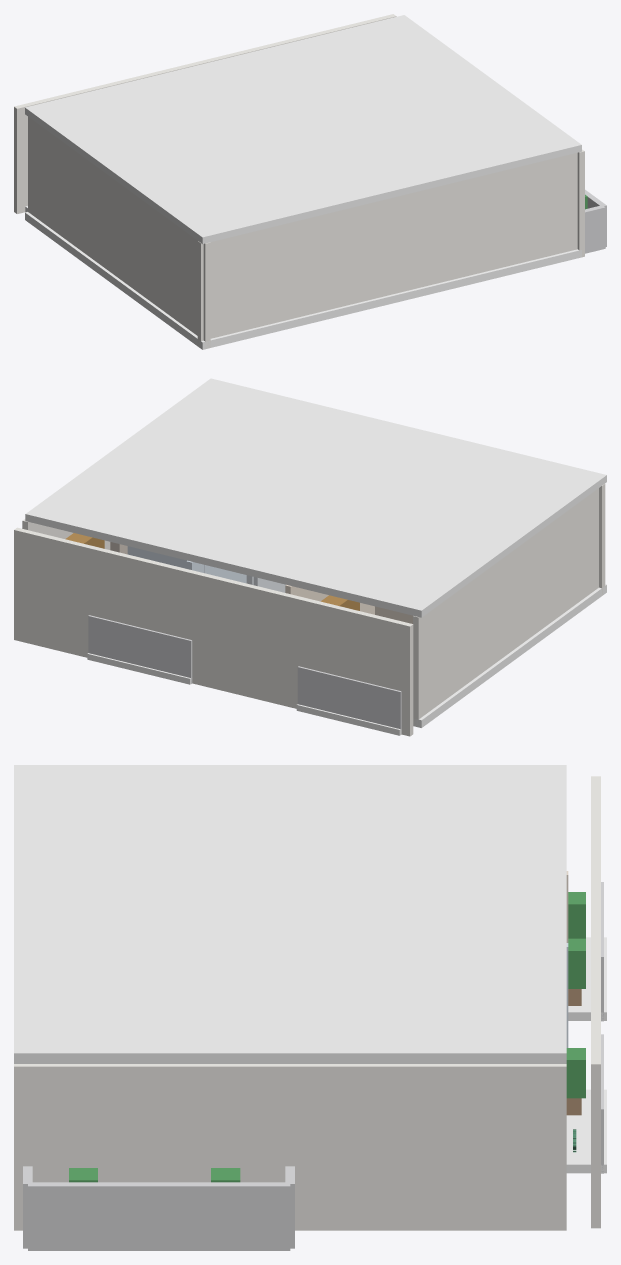
Rendered from house.glb.
3 renders of one model, top to bottom at view 1: azimuth 30°, elevation 25°; view 2: azimuth 150°, elevation 25°; view 3: azimuth 270°, elevation 25°, orthographic. The views are drawn at different scales.
Visible parts, largest first — view 1: Ceiling_Main, W_South, W_West, Floor_Main, W_North, Rail_R_S, W_East; view 2: Ceiling_Main, W_North, W_West, Rail_TR, Rail_TL, Floor_Main, Floor_Bal_TL, Floor_Bal_TR, W_South, W_BD_S, W_East; view 3: Ceiling_Main, W_East, Rail_R_E, W_North, Floor_Bal_TR, Floor_Bal_TL, Bal_Plant_2, Bal_Plant_1, Bal_Plant_0.
Part boxes in pixels (x1,y1,x2,y2): Ceiling_Main: [25, 15, 581, 243]; W_South: [197, 152, 577, 346]; W_West: [28, 116, 210, 349]; Floor_Main: [25, 212, 581, 349]; W_North: [14, 14, 396, 213]; Rail_R_S: [585, 205, 605, 253]; W_East: [577, 149, 584, 257]; Ceiling_Main: [25, 378, 606, 617]; W_North: [14, 527, 413, 736]; W_West: [413, 488, 598, 726]; Rail_TR: [88, 615, 192, 683]; Rail_TL: [297, 666, 401, 728]; Floor_Main: [413, 584, 606, 727]; Floor_Bal_TL: [296, 704, 401, 735]; Floor_Bal_TR: [87, 653, 192, 684]; W_South: [599, 484, 605, 595]; W_BD_S: [127, 546, 186, 568]; W_East: [22, 519, 110, 549]; Ceiling_Main: [14, 765, 566, 1063]; W_East: [14, 1064, 566, 1230]; Rail_R_E: [28, 1182, 290, 1250]; W_North: [591, 776, 600, 1228]; Floor_Bal_TR: [566, 1089, 606, 1173]; Floor_Bal_TL: [568, 937, 606, 1020]; Bal_Plant_2: [566, 1048, 585, 1098]; Bal_Plant_1: [568, 938, 585, 988]; Bal_Plant_0: [568, 892, 585, 938].
Size of the model in its own units: 11.37 by 2.99 by 9.18.
